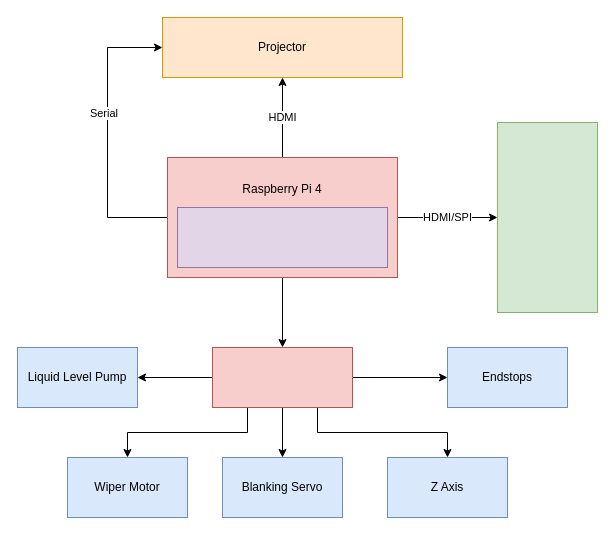
Some shapes in this 615 by 535 pixel diagram are drawn without their labels. Each missing label, with the centre of its shape:
Arduino/Ramps/CNC Shield: point (282, 377)
HMI: point (547, 217)
NanoDLP: point (282, 237)
